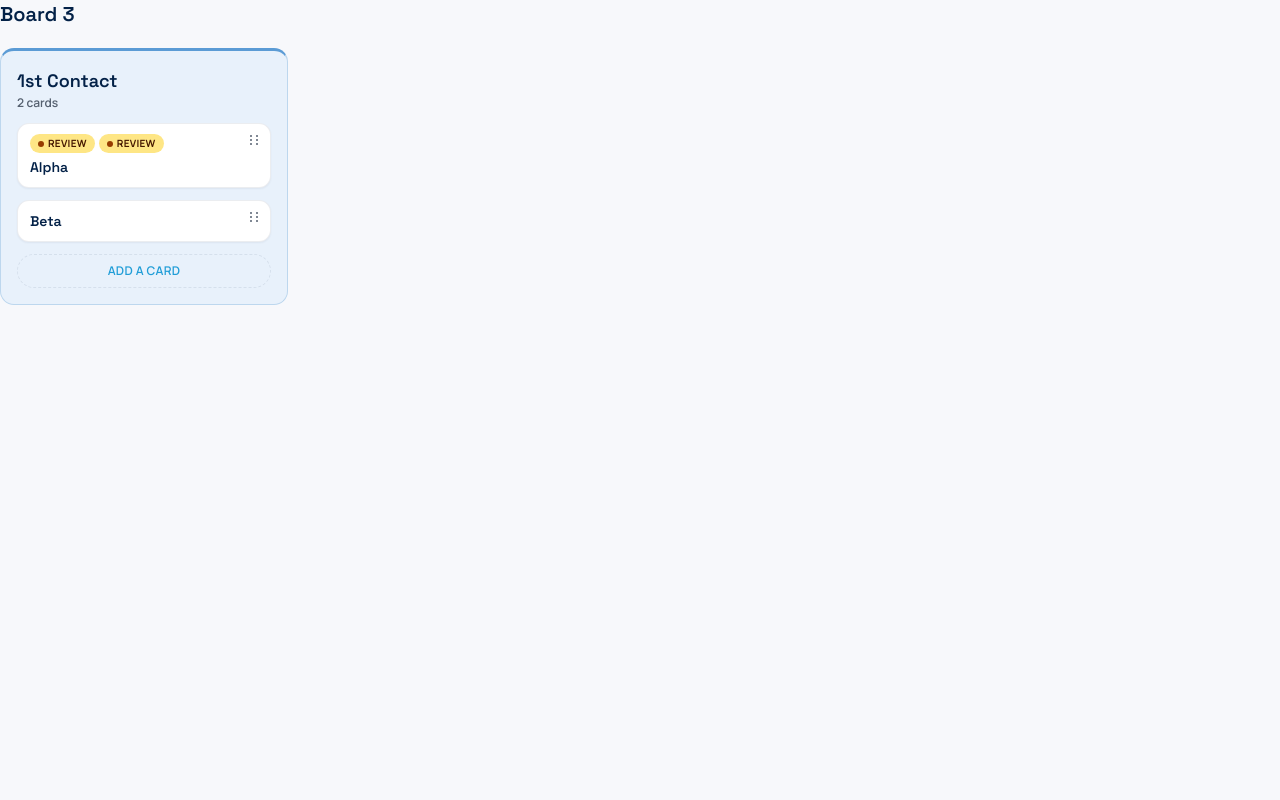
central card reviews: markers on the cards and a dialog per obligation › keeps a card's other obligation when one of two is cleared
What coordinates should you click on to do the following:
click the button with test id "review-marker-11"
I would click on:
 (62, 144)
Its box is [30, 134, 95, 153].
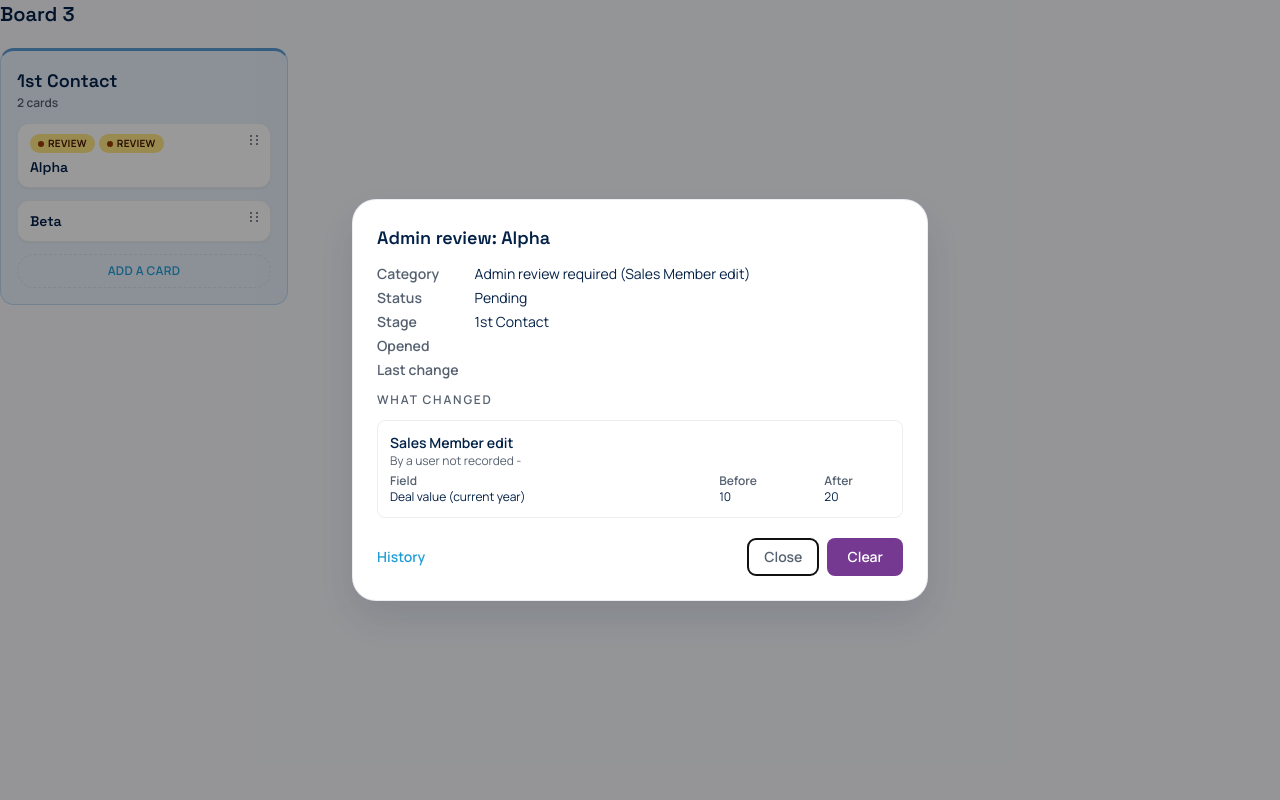
What coordinates should you click on to do the following:
click the button "Clear"
I would click on:
 (865, 557)
Its box is [828, 538, 903, 576].
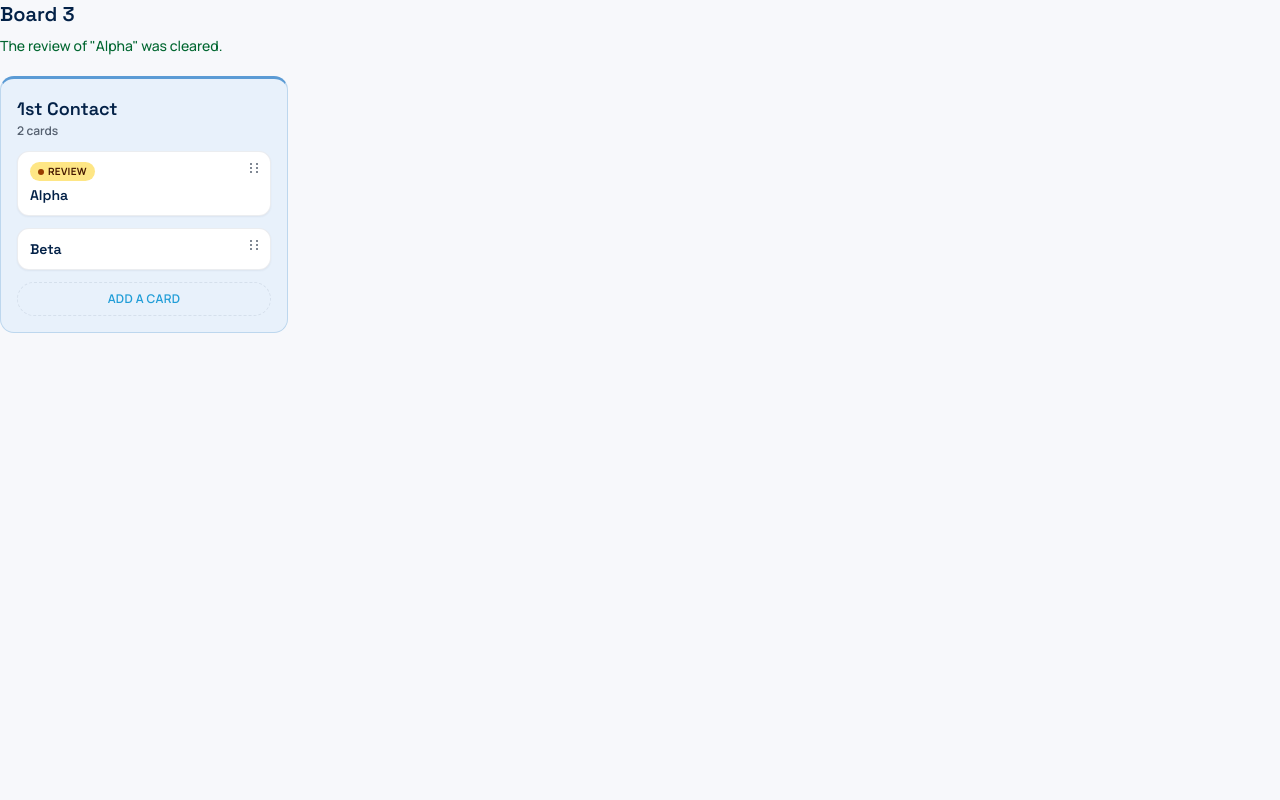
Expected: the button with test id "review-marker-12" is shown, [30, 162, 95, 181]
Result: the button with test id "review-marker-11" is gone
